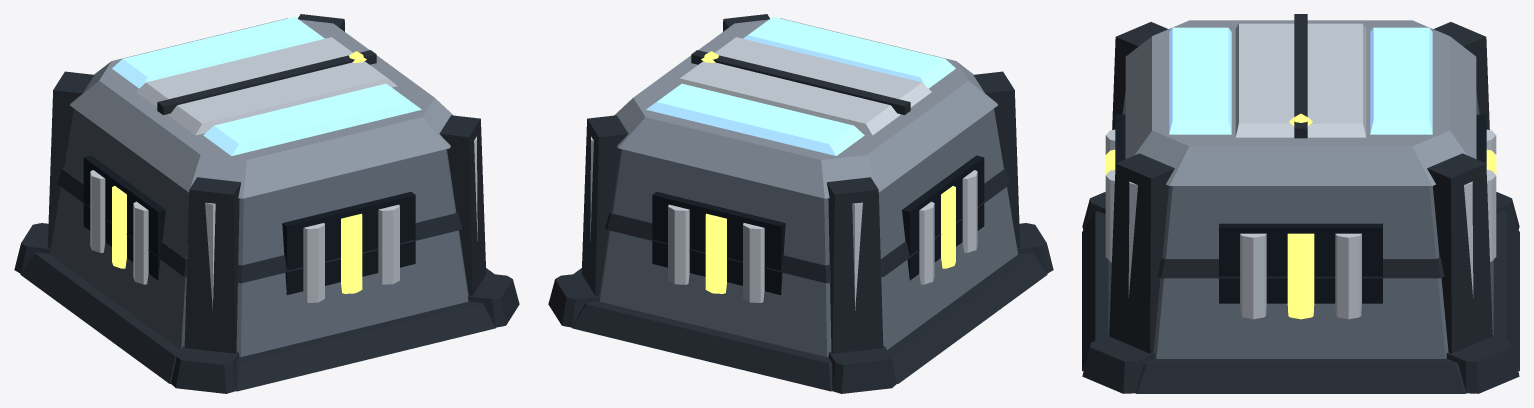
File: silo.glb
The picture shows the model from 3 angles, left to right: view 1: azimuth 30°, elevation 25°; view 2: azimuth 150°, elevation 25°; view 3: azimuth 270°, elevation 25°; orthographic projection. The views are drawn at different scales.
Visible parts, largest first — view 1: Surf_dark, Surf_slate, Surf_armor, Surf_light, Surf_TEAM, Surf_bay, Surf_amber; view 2: Surf_dark, Surf_slate, Surf_armor, Surf_light, Surf_TEAM, Surf_bay, Surf_amber; view 3: Surf_dark, Surf_slate, Surf_armor, Surf_light, Surf_TEAM, Surf_bay, Surf_amber.
Boxes of the visible parts, box(x1,y1,x2,y2) form: Surf_dark: box(14, 14, 519, 393); Surf_slate: box(50, 108, 468, 357); Surf_armor: box(70, 18, 453, 198); Surf_light: box(90, 37, 477, 310); Surf_TEAM: box(112, 17, 421, 155); Surf_bay: box(83, 155, 415, 295); Surf_amber: box(112, 51, 366, 293); Surf_dark: box(548, 14, 1053, 393); Surf_slate: box(599, 108, 1017, 357); Surf_armor: box(614, 18, 997, 198); Surf_light: box(590, 37, 977, 310); Surf_TEAM: box(646, 17, 955, 155); Surf_bay: box(652, 155, 984, 295); Surf_amber: box(701, 51, 955, 293); Surf_dark: box(1082, 14, 1519, 393); Surf_slate: box(1108, 92, 1493, 358); Surf_armor: box(1125, 20, 1476, 185); Surf_light: box(1105, 23, 1496, 319); Surf_TEAM: box(1169, 27, 1432, 134); Surf_bay: box(1115, 114, 1486, 303); Surf_amber: box(1105, 113, 1496, 319).
Size of the model in its own units: 3.31 by 1.97 by 3.31.
